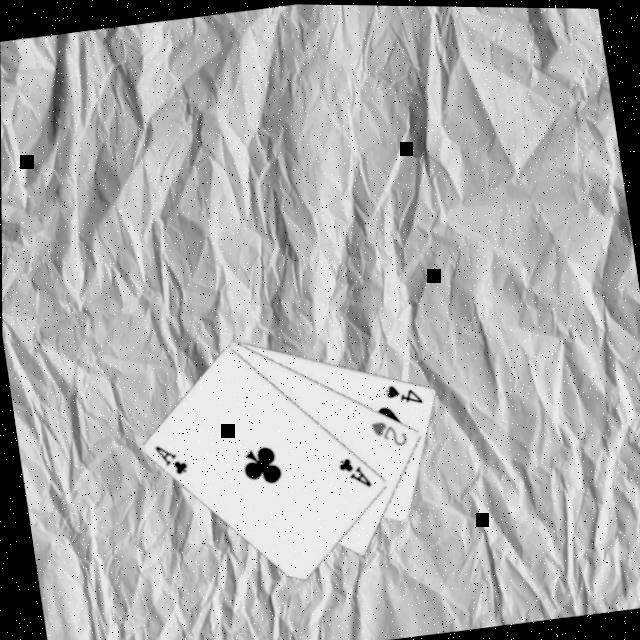2H: (365, 414, 409, 454)
4S: (380, 377, 424, 412)
AC: (332, 452, 373, 496), (149, 440, 190, 482)
